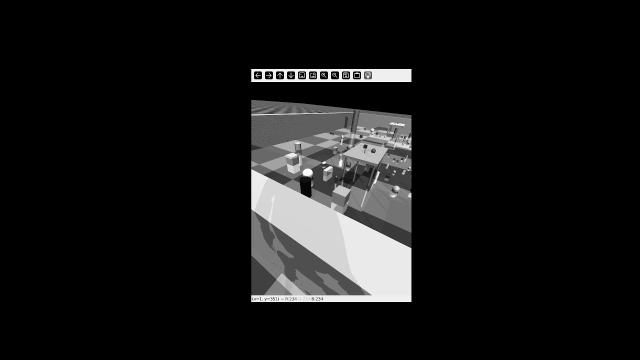cilindro: (298, 176, 311, 196), (351, 110, 361, 132), (294, 143, 303, 155), (393, 127, 399, 135), (375, 170, 380, 179), (334, 176, 341, 182), (339, 154, 344, 160), (386, 162, 390, 169), (395, 137, 399, 143), (341, 133, 344, 139), (330, 132, 336, 135), (404, 135, 408, 139), (405, 155, 409, 159), (364, 149, 368, 153), (409, 144, 412, 149), (409, 132, 411, 138), (380, 134, 382, 138), (340, 140, 342, 143), (397, 121, 399, 124)
cuadrado: (331, 184, 351, 207), (285, 154, 300, 165), (333, 146, 340, 152), (366, 163, 372, 169), (362, 144, 368, 149), (400, 138, 405, 142), (393, 158, 397, 162), (360, 134, 363, 138), (376, 131, 379, 135), (393, 138, 396, 142), (404, 169, 407, 173), (399, 123, 402, 125)
esfera: (302, 166, 315, 176), (392, 184, 402, 193), (371, 148, 376, 153), (346, 161, 351, 166), (321, 162, 328, 165), (407, 166, 411, 170), (370, 127, 374, 131), (407, 140, 411, 144), (392, 170, 397, 173), (386, 153, 391, 156), (402, 142, 405, 145), (346, 146, 349, 149), (396, 160, 400, 162), (393, 122, 396, 124), (384, 135, 386, 138), (372, 132, 374, 134)
rectangulo: (323, 166, 333, 177), (385, 171, 391, 180), (400, 134, 404, 139)
